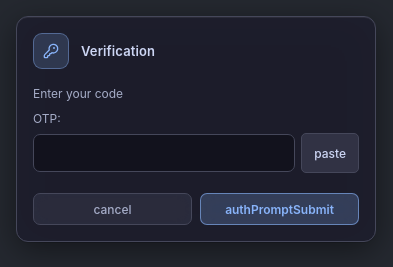
Test case: AuthPromptOverlay › 붙여넣기 버튼이 클립보드 값을 첫 칸에 채운다
Click the button "paste" at (330, 153), box [301,133,359,173]
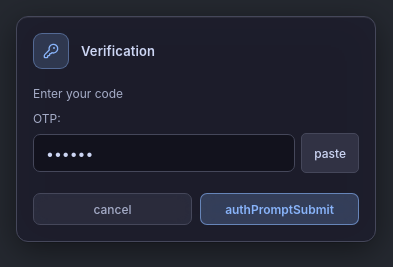
Check: the password field labelled "OTP: paste" holds "654321", box [33,134,295,172]
